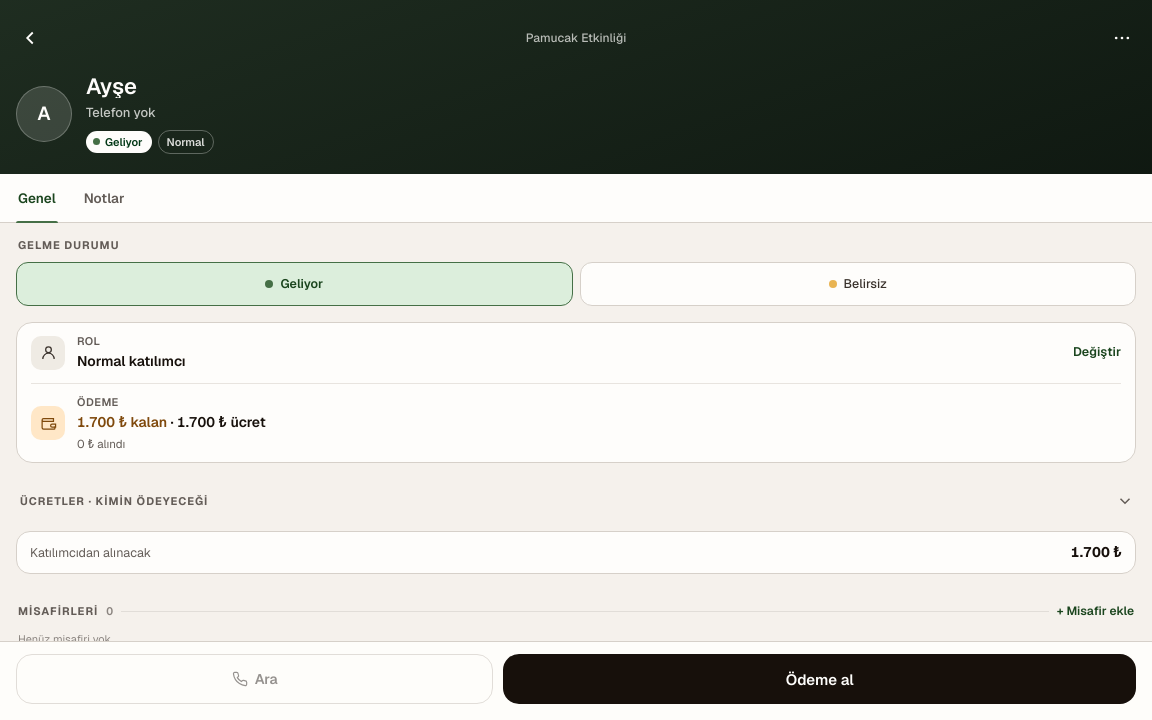
Etkinlik katılımcısının ücretleri › kalan tutardan fazla tahsilatı frontend tarafında da engeller
Click the button "Ödeme al": (820, 679) [503,654,1136,704]
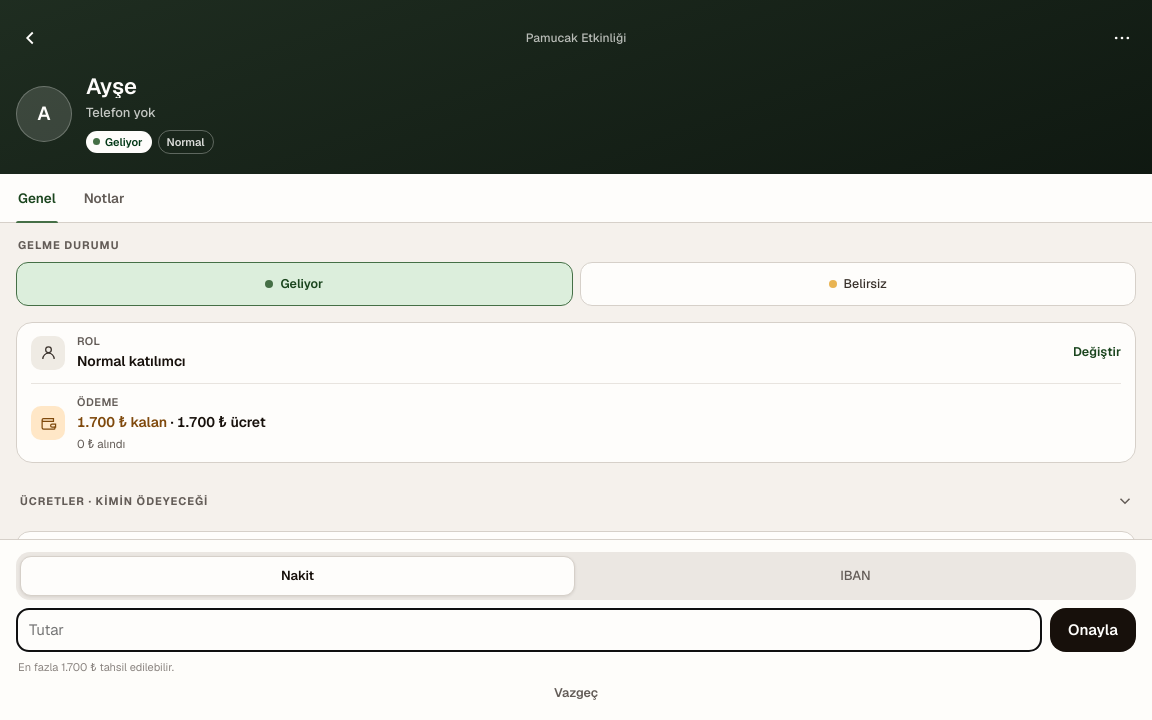
In the field named "Ödeme tutarı": (529, 630) [16,608,1042,652], type "1700,01"
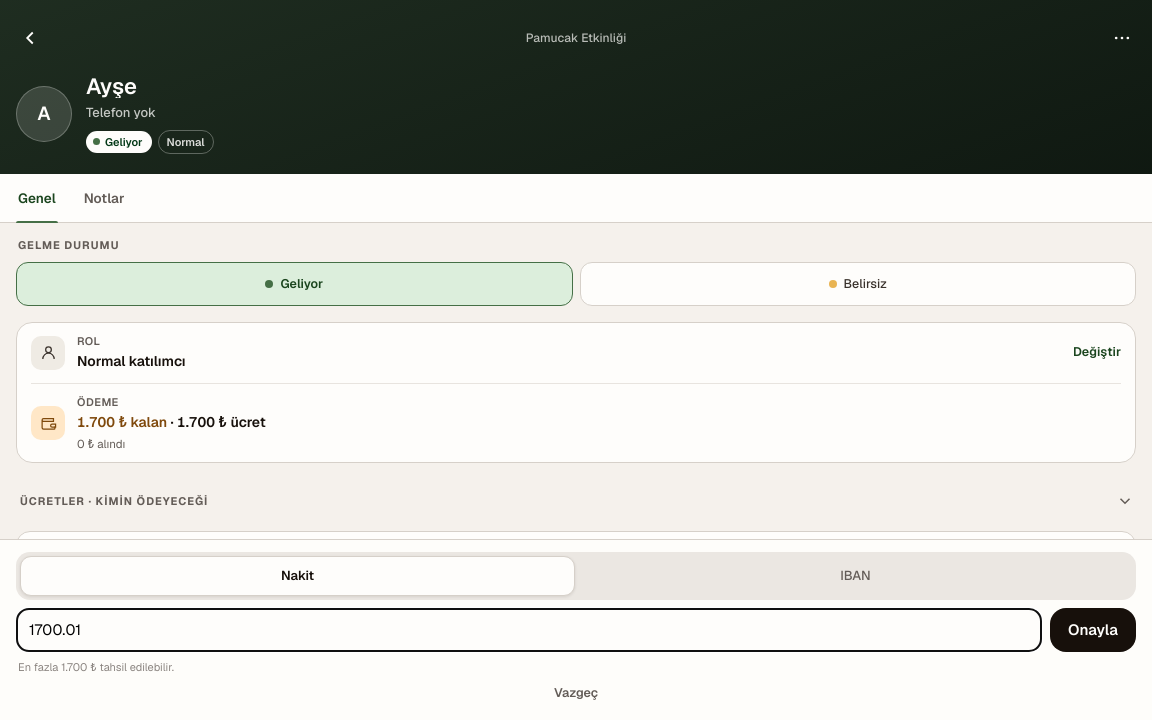
Click the button "Onayla": (1093, 630) [1050,608,1136,652]
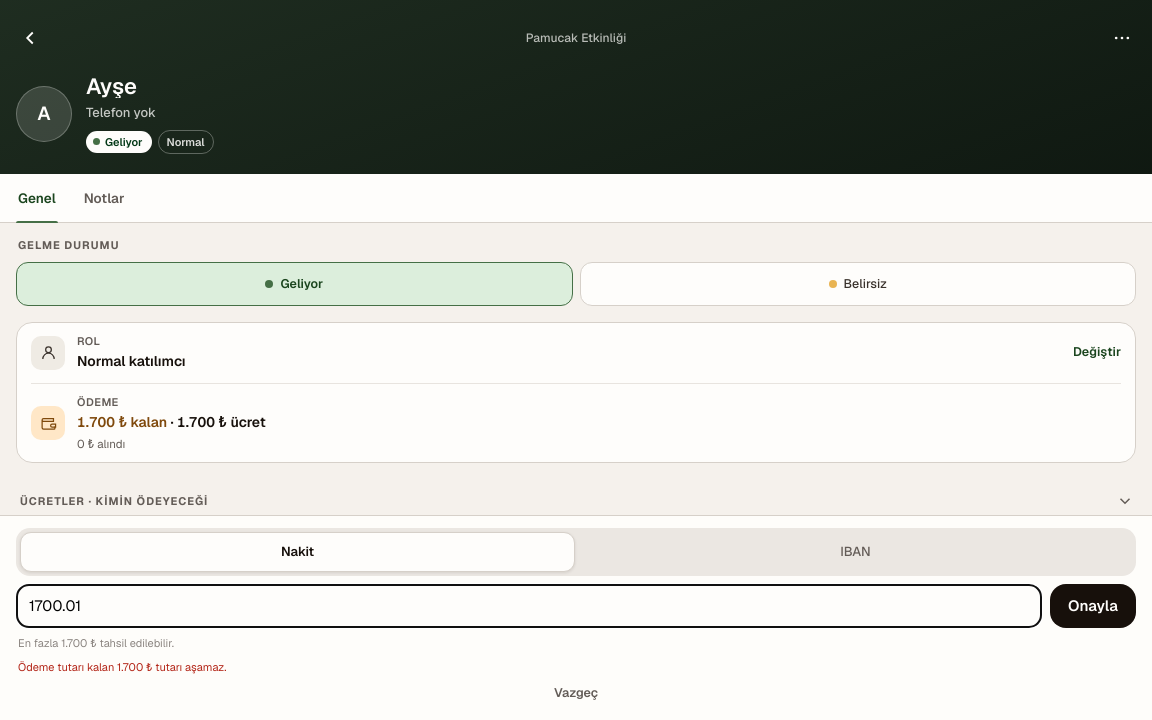
Result: the message shows "kalan 1.700 ₺ tutarı aşamaz" at [18,660,226,674]
